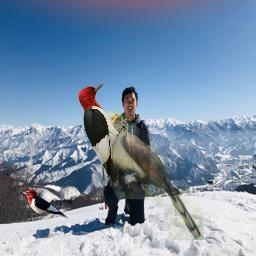Cuckoo: (103, 110, 204, 240)
Woodpecker: (77, 82, 131, 189), (18, 189, 68, 219)
